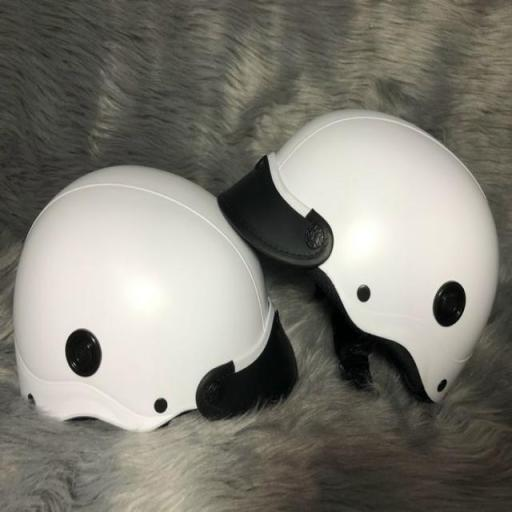with helmet: (216, 110, 501, 402), (9, 165, 300, 435)
